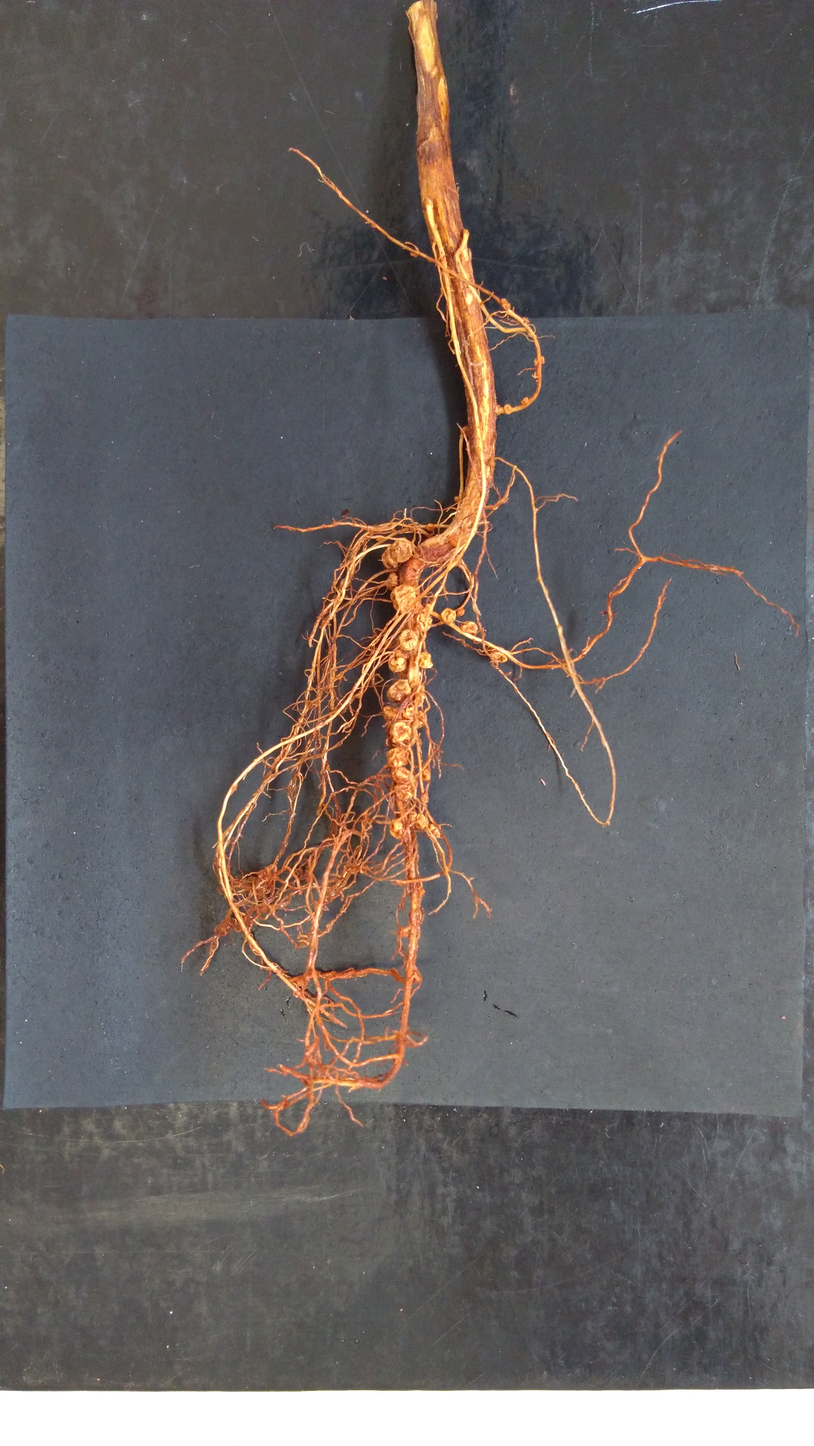nodule: (387, 582, 418, 614), (385, 678, 413, 703), (386, 721, 413, 746), (390, 537, 414, 564), (394, 627, 419, 652), (386, 649, 409, 674), (383, 747, 410, 768), (388, 766, 416, 785), (380, 546, 398, 572), (437, 605, 456, 627), (458, 619, 480, 638), (416, 610, 434, 633), (387, 817, 403, 841), (381, 704, 401, 723), (409, 811, 428, 831), (417, 650, 435, 671), (393, 784, 414, 802), (410, 711, 429, 730), (384, 570, 399, 594), (489, 649, 510, 666), (427, 820, 443, 839), (413, 692, 426, 708), (420, 766, 432, 781), (500, 297, 511, 312), (419, 791, 430, 805), (516, 315, 530, 325), (425, 522, 437, 533), (503, 403, 513, 416), (455, 606, 466, 617), (520, 396, 530, 406), (453, 496, 464, 503), (540, 354, 546, 365), (534, 357, 539, 368)
